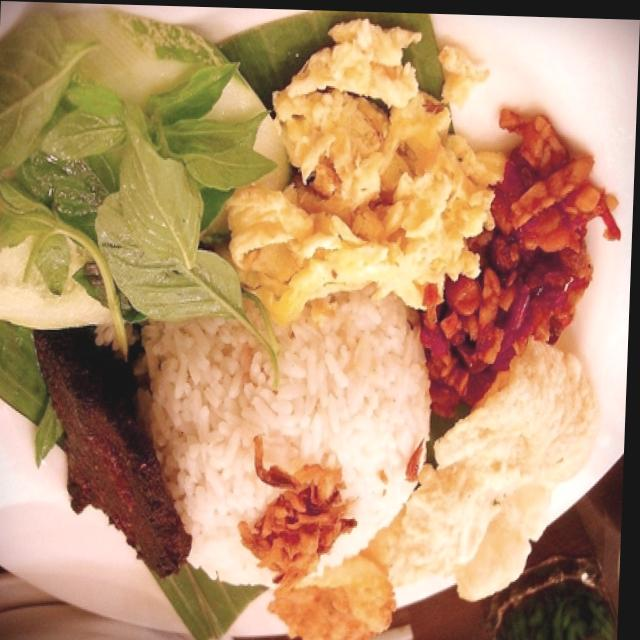米饭主食: (16, 8, 606, 640)
